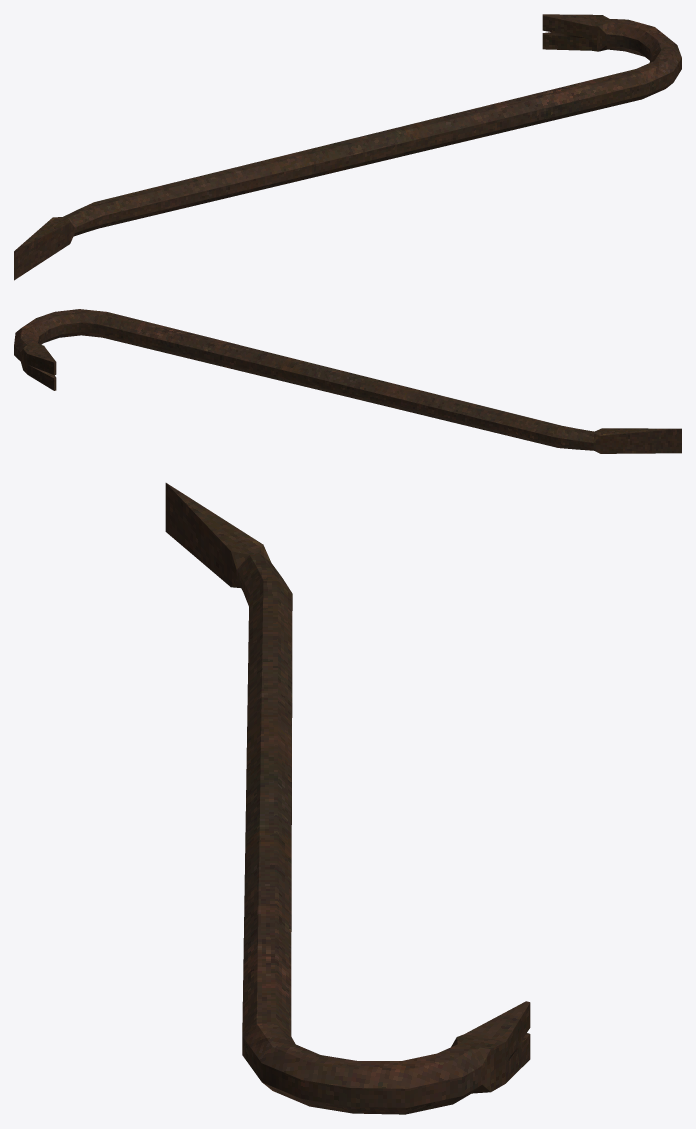
File: rusty_crowbar_mx_1.glb
3 renders of one model, top to bottom at view 1: azimuth 30°, elevation 25°; view 2: azimuth 150°, elevation 25°; view 3: azimuth 270°, elevation 25°, orthographic. The views are drawn at different scales.
Parts seen in each view (by area): view 1: rusty_crowbar_mx_1; view 2: rusty_crowbar_mx_1; view 3: rusty_crowbar_mx_1.
Boxes of the visible parts, x1,y1,x2,y2 form: rusty_crowbar_mx_1: (14, 14, 681, 280); rusty_crowbar_mx_1: (14, 309, 681, 453); rusty_crowbar_mx_1: (165, 483, 530, 1114).
Bounding box in the file's own units: 1 × 0.045 × 0.2615.
1 material, 1 textured.
